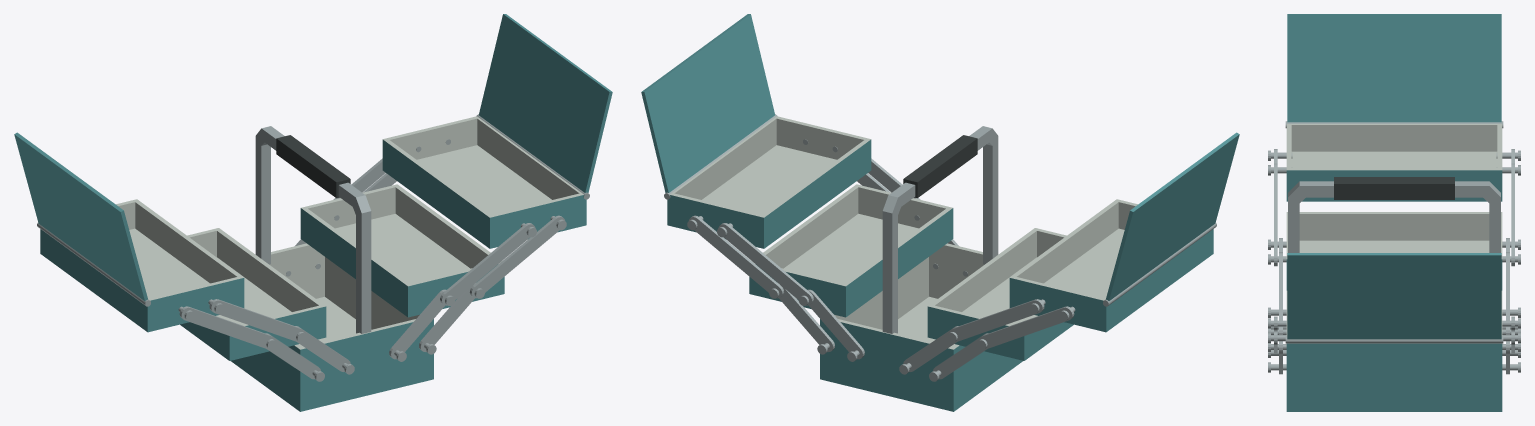
The picture shows the model from 3 angles, left to right: view 1: azimuth 30°, elevation 25°; view 2: azimuth 150°, elevation 25°; view 3: azimuth 270°, elevation 25°; orthographic projection.
Parts seen in each view (by area): view 1: WholeUpperTrayRight, WholeCentralDeepTub, WholeRaisedOuterLidRight, WholeMiddleTrayRight, WholeUpperTrayLeft, WholeRaisedOuterLidLeft, WholeMiddleTrayLeft, WholeCentralCarryArch, WholeCentralHandleGrip, WholeUpperLinkRightFront0, WholeUpperLinkRightFront1, WholeUpperLinkLeftFront0 (+6 smaller); view 2: WholeUpperTrayRight, WholeCentralDeepTub, WholeRaisedOuterLidRight, WholeMiddleTrayRight, WholeUpperTrayLeft, WholeRaisedOuterLidLeft, WholeMiddleTrayLeft, WholeCentralCarryArch, WholeCentralHandleGrip, WholeUpperLinkRightBack0, WholeUpperLinkRightBack1, WholeUpperLinkLeftBack0 (+6 smaller); view 3: WholeRaisedOuterLidLeft, WholeRaisedOuterLidRight, WholeUpperTrayLeft, WholeMiddleTrayLeft, WholeCentralDeepTub, WholeUpperTrayRight, WholeCentralHandleGrip, WholeCentralCarryArch, WholeMiddleTrayRight, WholeOuterLidShaftRight, WholeOuterLidShaftLeft, WholeUpperLinkLeftBack0 (+3 smaller).
Boxes of the visible parts, <box> form: WholeUpperTrayRight: <box>382,116,586,248</box>; WholeCentralDeepTub: <box>231,243,433,411</box>; WholeRaisedOuterLidRight: <box>479,14,612,192</box>; WholeMiddleTrayRight: <box>300,184,504,317</box>; WholeUpperTrayLeft: <box>40,199,244,332</box>; WholeRaisedOuterLidLeft: <box>14,132,147,300</box>; WholeMiddleTrayLeft: <box>180,228,326,360</box>; WholeCentralCarryArch: <box>255,126,371,333</box>; WholeCentralHandleGrip: <box>276,135,350,198</box>; WholeUpperLinkRightFront0: <box>440,223,535,305</box>; WholeUpperLinkRightFront1: <box>469,215,564,298</box>; WholeUpperLinkLeftFront0: <box>209,299,304,341</box>; WholeUpperTrayRight: <box>667,116,871,248</box>; WholeCentralDeepTub: <box>820,243,1022,411</box>; WholeRaisedOuterLidRight: <box>641,14,774,192</box>; WholeMiddleTrayRight: <box>749,184,953,317</box>; WholeUpperTrayLeft: <box>1009,199,1213,332</box>; WholeRaisedOuterLidLeft: <box>1106,132,1239,300</box>; WholeMiddleTrayLeft: <box>927,228,1073,360</box>; WholeCentralCarryArch: <box>882,126,998,333</box>; WholeCentralHandleGrip: <box>903,135,977,198</box>; WholeUpperLinkRightBack0: <box>718,223,813,305</box>; WholeUpperLinkRightBack1: <box>689,215,784,298</box>; WholeUpperLinkLeftBack0: <box>949,299,1044,341</box>; WholeRaisedOuterLidLeft: <box>1287,14,1501,122</box>; WholeRaisedOuterLidRight: <box>1287,253,1501,339</box>; WholeUpperTrayLeft: <box>1286,124,1502,201</box>; WholeMiddleTrayLeft: <box>1286,212,1502,290</box>; WholeCentralDeepTub: <box>1286,378,1502,411</box>; WholeUpperTrayRight: <box>1286,291,1502,369</box>; WholeCentralHandleGrip: <box>1334,177,1454,199</box>; WholeCentralCarryArch: <box>1288,181,1500,252</box>; WholeMiddleTrayRight: <box>1286,369,1502,378</box>; WholeOuterLidShaftRight: <box>1285,336,1503,343</box>; WholeOuterLidShaftLeft: <box>1285,121,1503,128</box>; WholeUpperLinkLeftBack0: <box>1511,163,1514,266</box>.
Size of the model in its own units: 1.32 by 0.6273 by 0.586.
